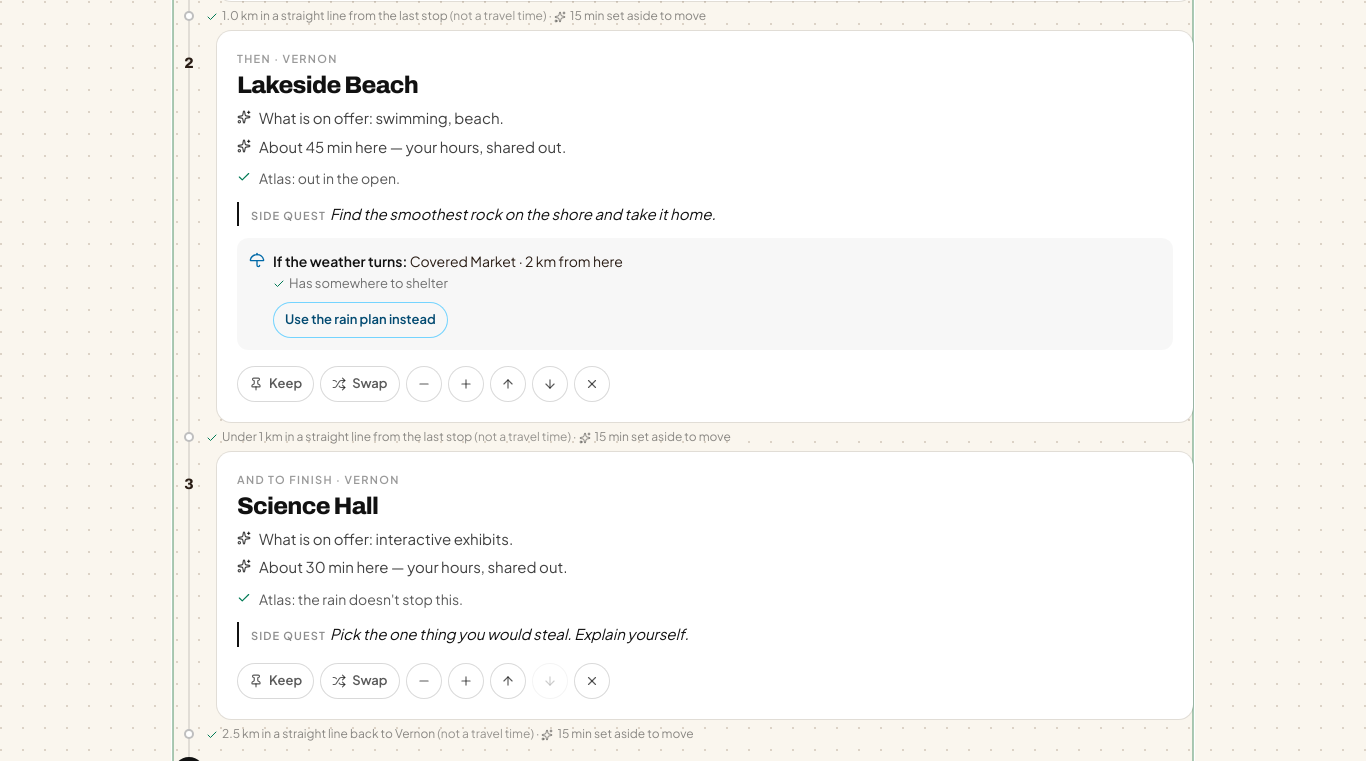
Test: Go have a day › keeps a kept stop through a sentence that changes everything else
(page scrolled)
Click the button with test id "go-keep-2": [276, 384] box [237,366,314,402]
(page scrolled)
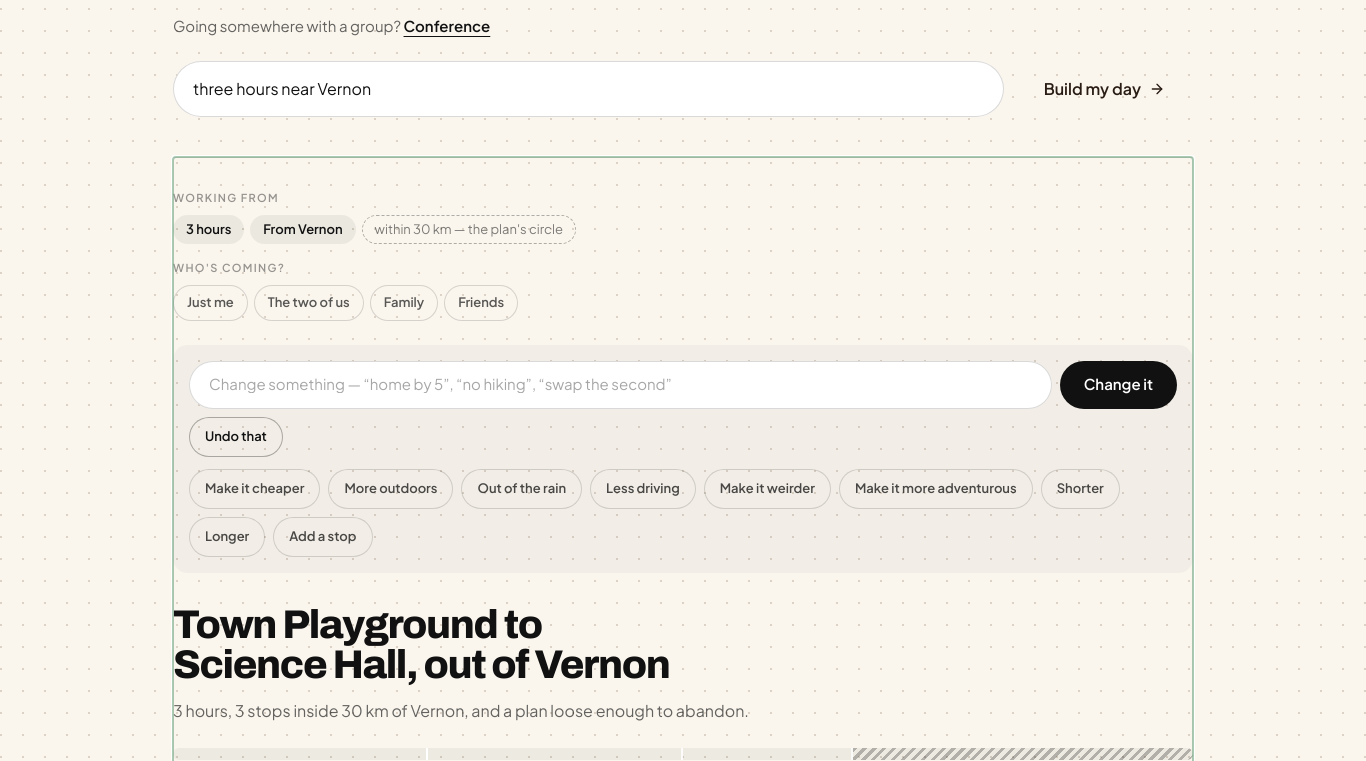
Replace the text in the field with test id "go-change" with "make it more adventurous, under cover": [620, 384] box [189,360,1052,408]
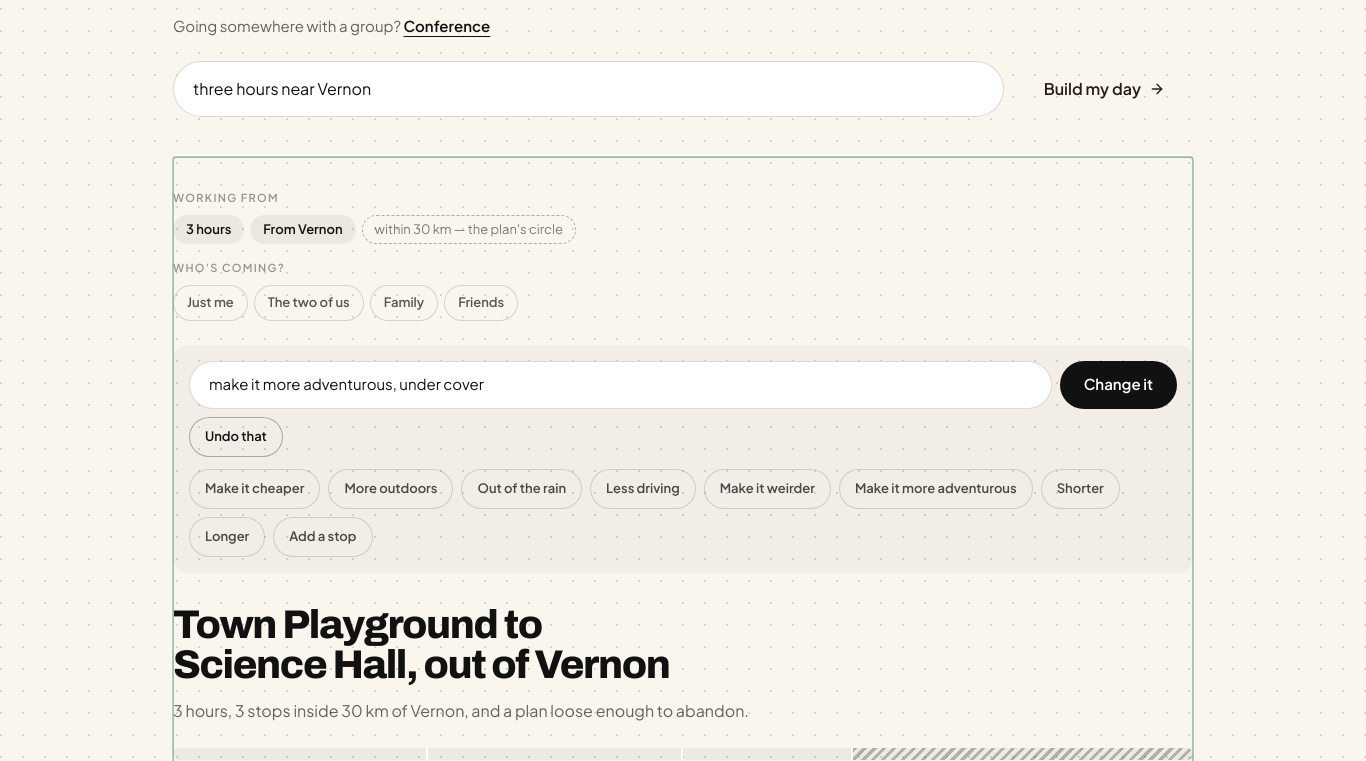
Click the button with test id "go-change-submit": [1118, 384] box [1060,360,1177,408]
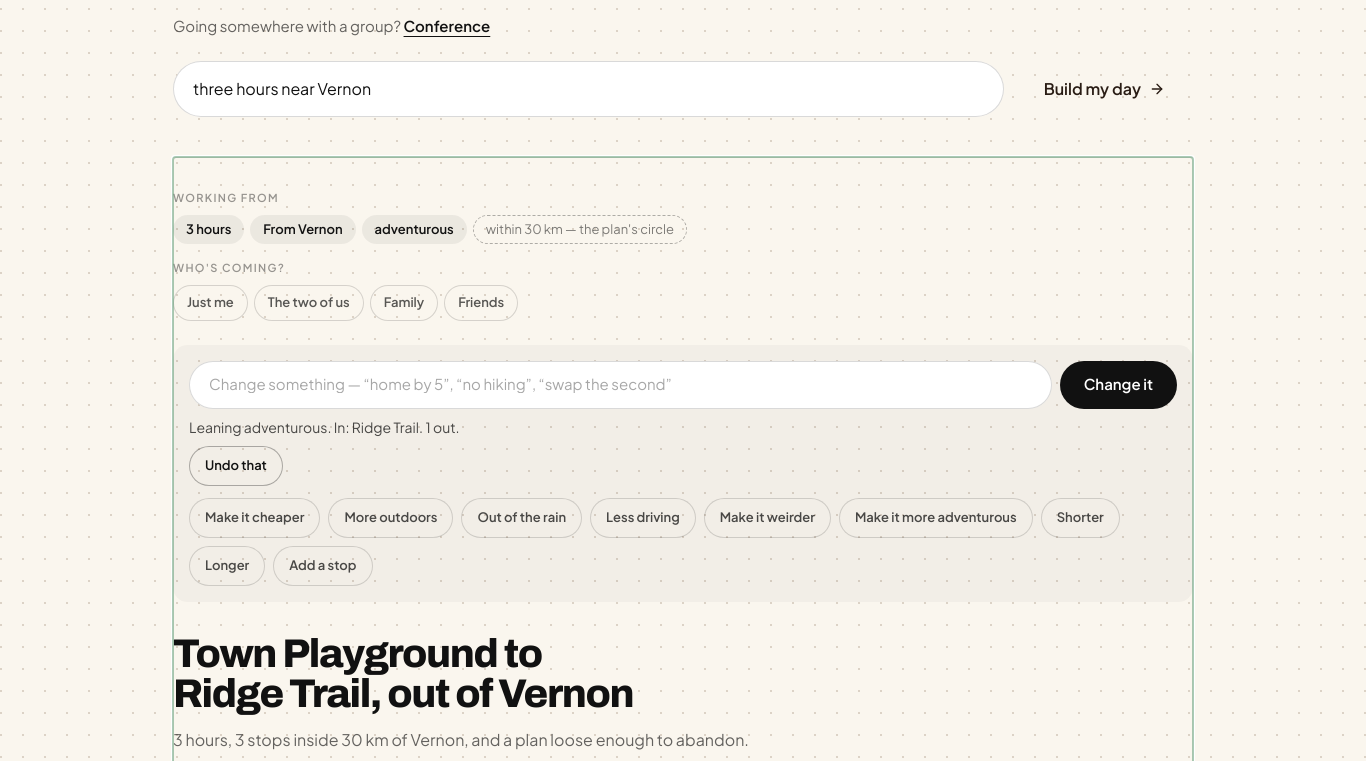
Result: the text with test id "go-reply" shows "Leaning adventurous" at [189,418,460,436]
